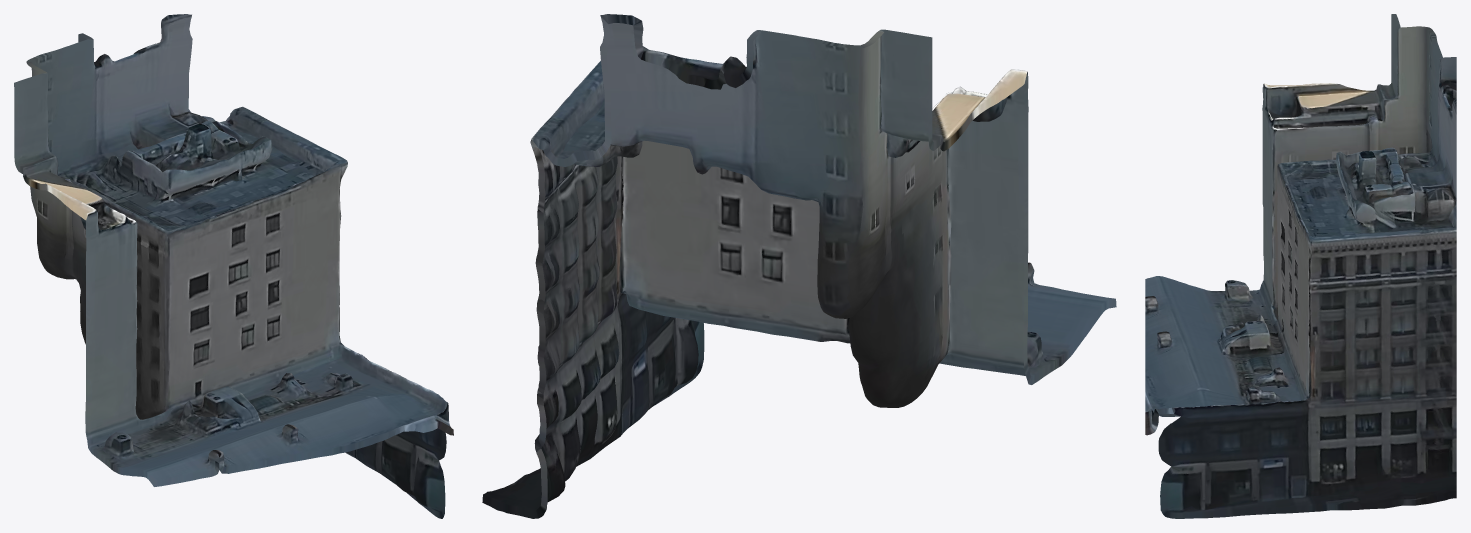
File: z20-167753-405243-h0-yup-uvflip-v3-world.glb
3 views of the same model, side by side, from view 1: azimuth 30°, elevation 25°; view 2: azimuth 150°, elevation 25°; view 3: azimuth 270°, elevation 25° (orthographic). The views are drawn at different scales.
Size of the model in its own units: 30.24 by 40.2 by 30.32.
Materials: 1 (1 with a texture image).
